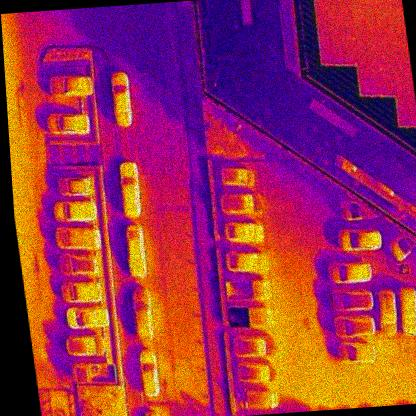Hotspot: (342, 32, 359, 64), (386, 3, 403, 35), (315, 4, 332, 36), (370, 63, 386, 95)
Normal: (339, 2, 356, 36), (327, 3, 344, 36), (357, 64, 374, 96), (365, 34, 382, 66), (351, 3, 367, 36), (354, 34, 371, 65), (393, 63, 409, 95), (382, 62, 397, 96), (377, 34, 394, 64), (389, 34, 405, 65), (331, 33, 347, 64), (362, 3, 377, 36), (397, 94, 412, 126), (318, 34, 334, 64), (374, 3, 389, 35)
